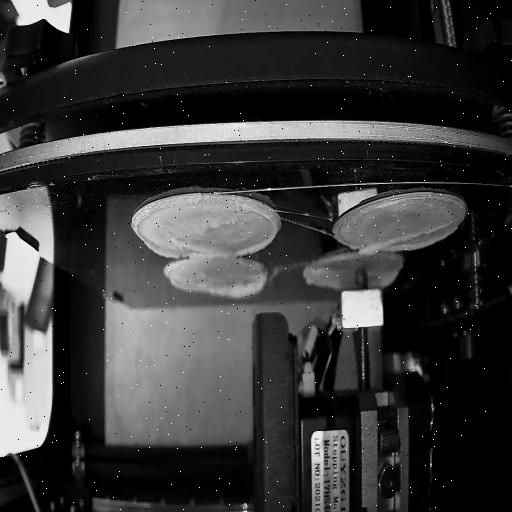over_extrusion: (359, 220, 451, 256), (233, 206, 278, 258), (210, 262, 268, 302), (145, 236, 231, 260), (302, 274, 356, 288), (369, 271, 398, 288), (170, 280, 196, 294)
